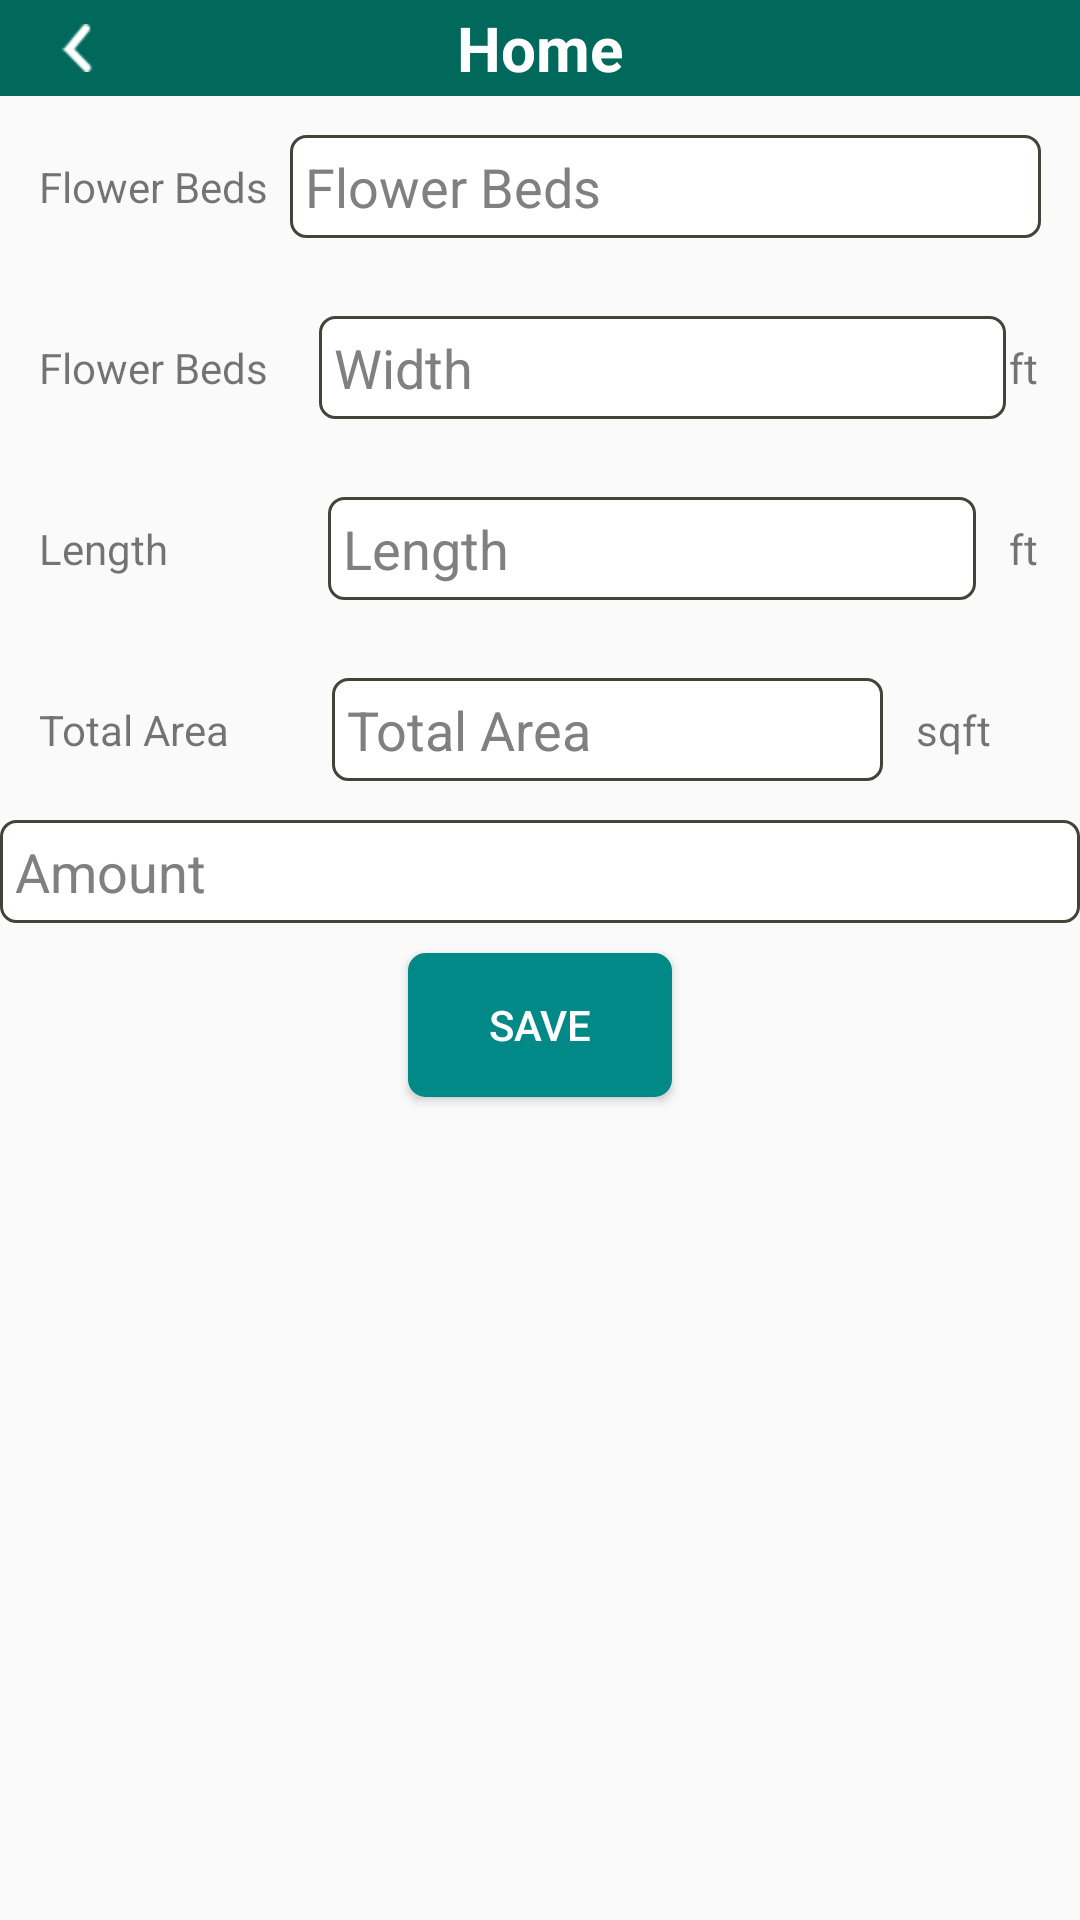

Named icons in this screenshot (1080px x 1920px) and their bounding boxes, (x1, y1, x2, y2):
back: (62, 24, 92, 72)
